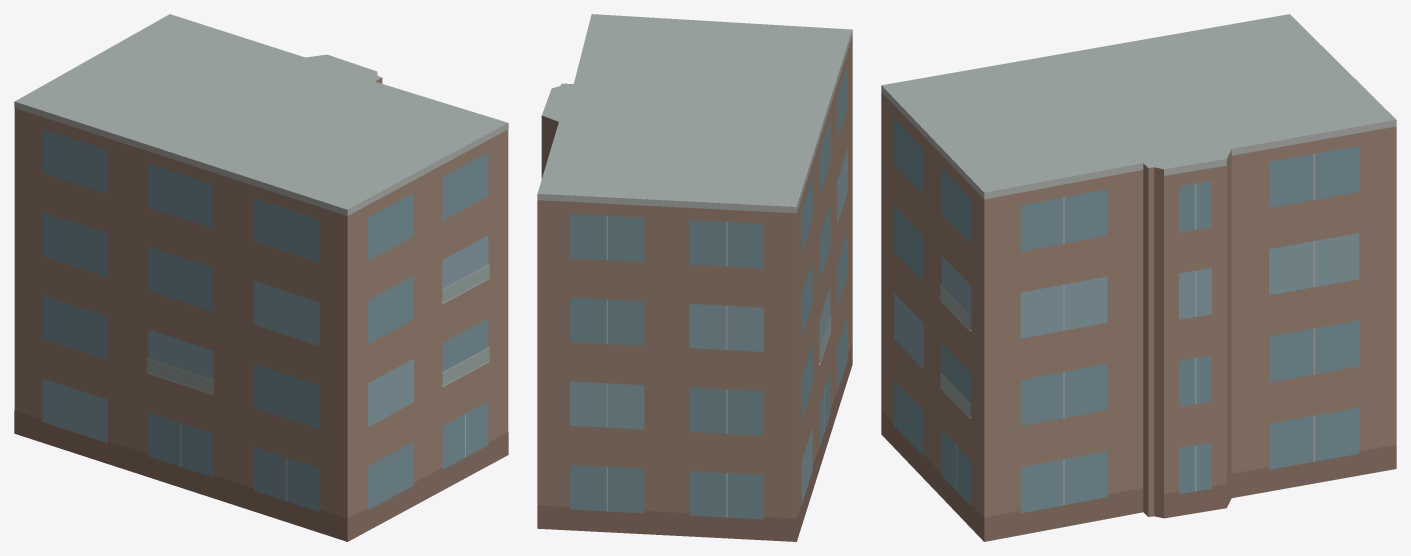
The model's file is survey-upis-32606838.glb.
3 renders of one model, left to right at view 1: azimuth 30°, elevation 25°; view 2: azimuth 150°, elevation 25°; view 3: azimuth 270°, elevation 25°, orthographic. The views are drawn at different scales.
Parts seen in each view (by area): view 1: survey-upis-32606838.tmp; view 2: survey-upis-32606838.tmp; view 3: survey-upis-32606838.tmp.
Part boxes in pixels (x1=…): survey-upis-32606838.tmp: x1=14, y1=14, x2=508, y2=541; survey-upis-32606838.tmp: x1=537, y1=14, x2=852, y2=541; survey-upis-32606838.tmp: x1=881, y1=14, x2=1396, y2=541.
Size of the model in its own units: 14.18 by 12.9 by 17.27.
